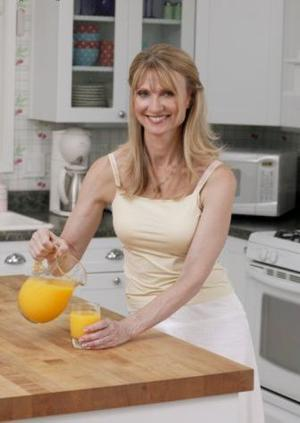person: (29, 46, 264, 423)
